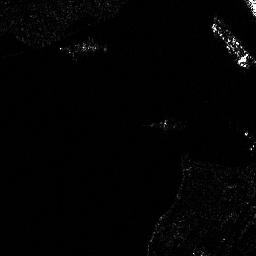ship: (209, 22, 249, 68)
